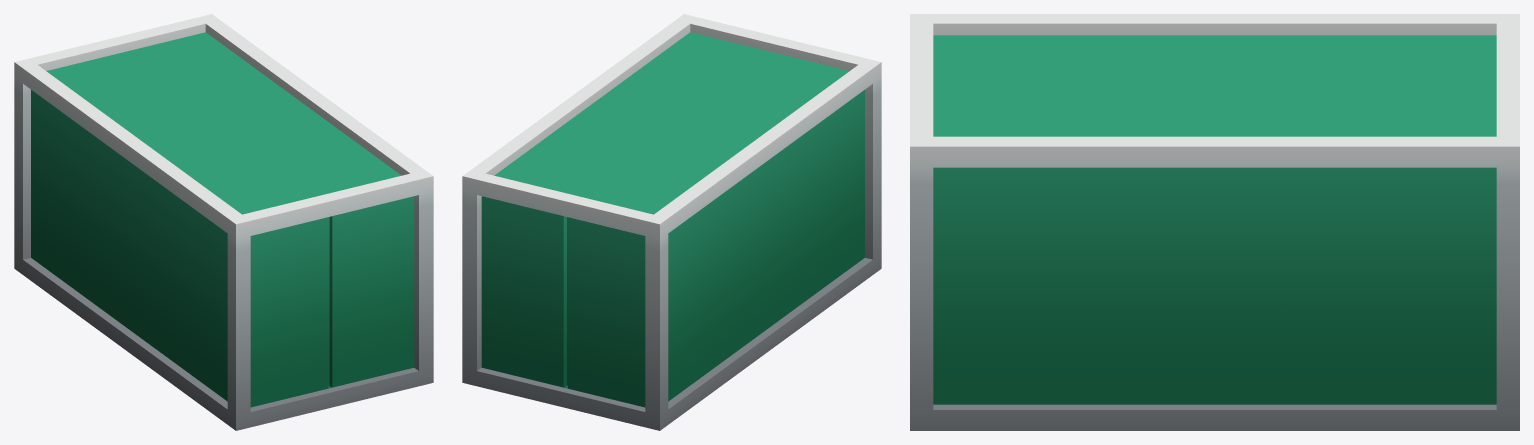
File: Container.fbx
The picture shows the model from 3 angles, left to right: view 1: azimuth 30°, elevation 25°; view 2: azimuth 150°, elevation 25°; view 3: azimuth 270°, elevation 25°; orthographic projection. The views are drawn at different scales.
Parts seen in each view (by area): view 1: Container; view 2: Container; view 3: Container.
Part boxes in pixels (x1=…): Container: x1=14, y1=14, x2=433, y2=430; Container: x1=462, y1=14, x2=881, y2=430; Container: x1=910, y1=14, x2=1519, y2=430.
Size of the model in its own units: 1.03 by 1.03 by 1.99.
